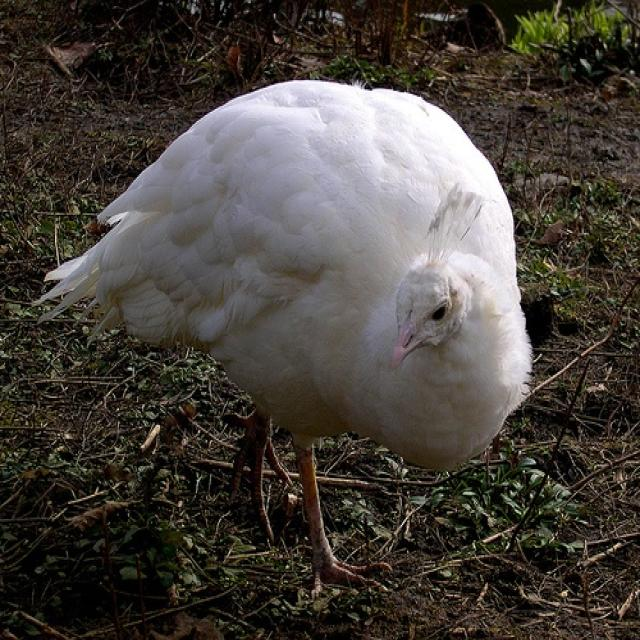bird: (31, 79, 534, 602)
